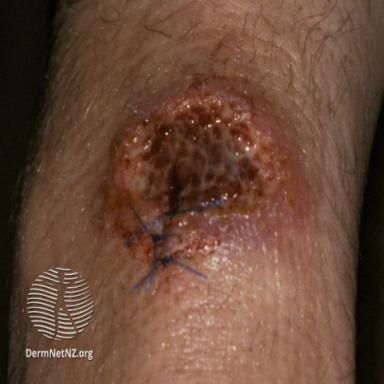Leishmanios: (109, 85, 299, 257)
